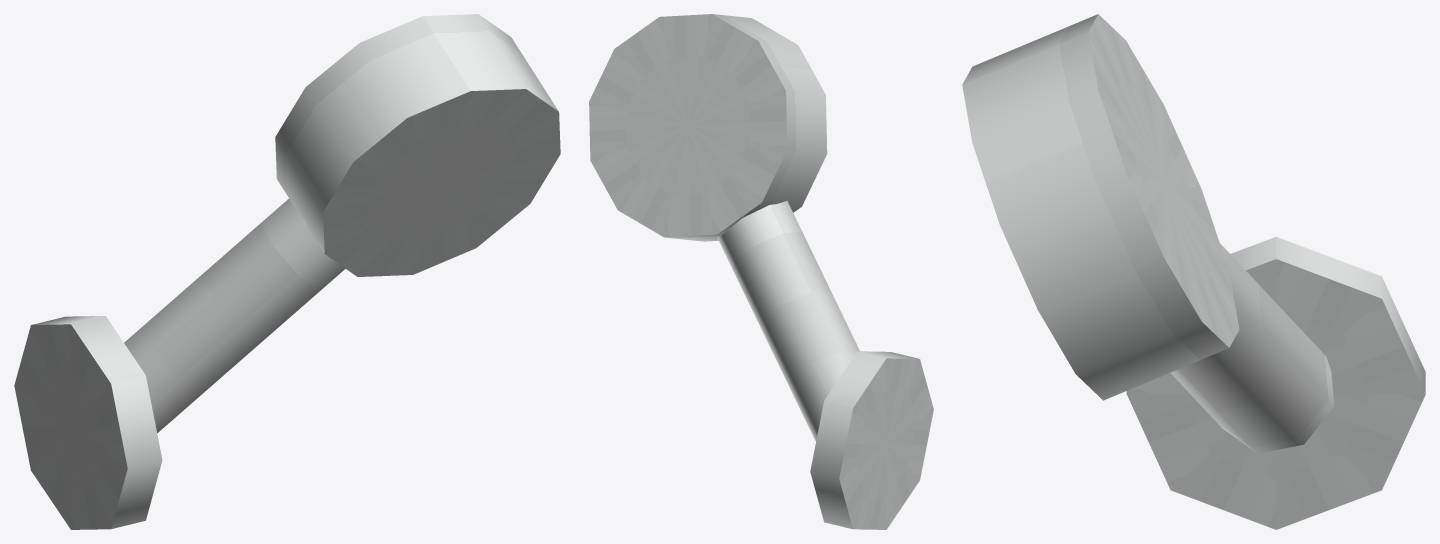
File: nycsignalarm_stub_16.obj
3 views of the same model, side by side, from view 1: azimuth 30°, elevation 25°; view 2: azimuth 150°, elevation 25°; view 3: azimuth 270°, elevation 25° (orthographic). The views are drawn at different scales.
Parts seen in each view (by area): view 1: nycsignalarm_stub_16; view 2: nycsignalarm_stub_16; view 3: nycsignalarm_stub_16.
Boxes of the visible parts, x1,y1,x2,y2 form: nycsignalarm_stub_16: (14,14,560,529); nycsignalarm_stub_16: (589,14,933,529); nycsignalarm_stub_16: (962,14,1425,529).
Bounding box in the file's own units: 0.7109 × 0.847 × 0.5427.
